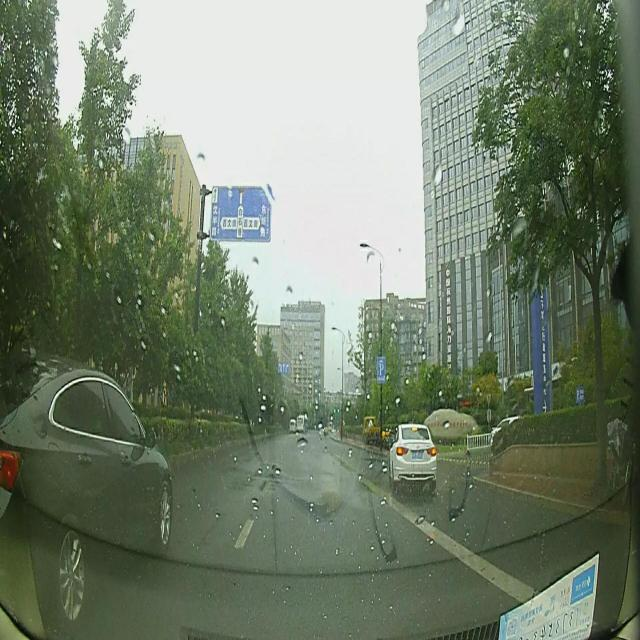car: (0, 354, 172, 628), (389, 424, 437, 492), (288, 418, 297, 434)
